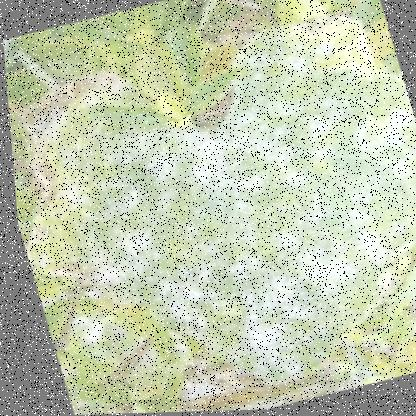PowderyMildew: (180, 75, 415, 355), (92, 135, 288, 334)
